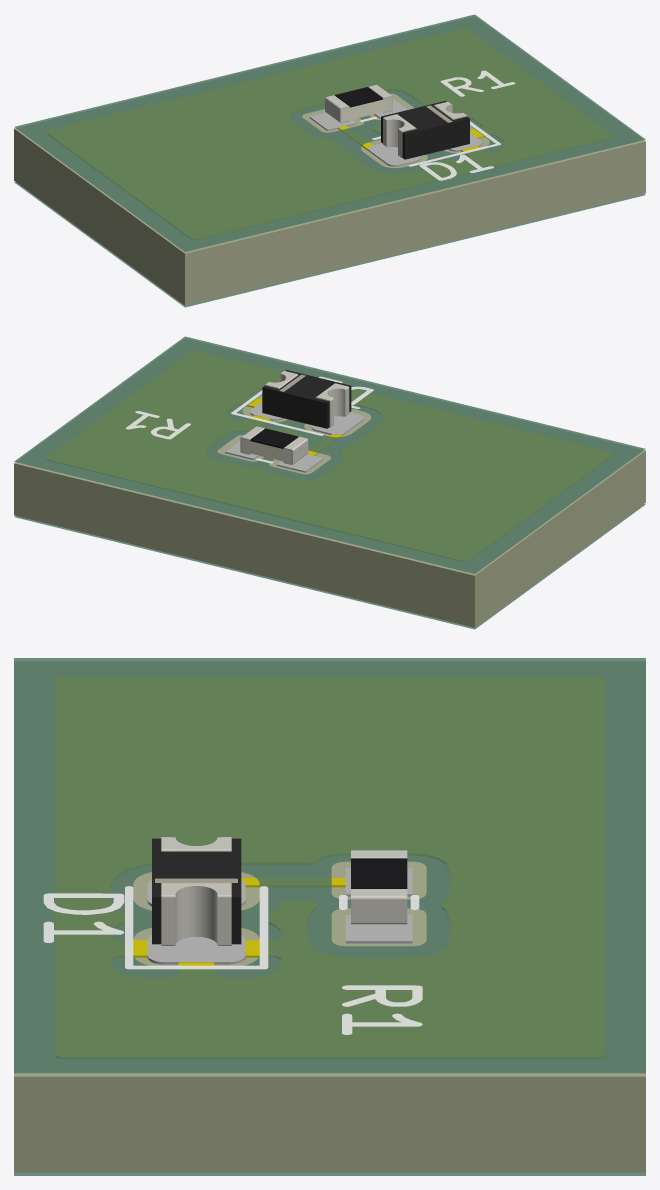
Rendered from board.glb.
The picture shows the model from 3 angles, top to bottom: view 1: azimuth 30°, elevation 25°; view 2: azimuth 150°, elevation 25°; view 3: azimuth 270°, elevation 25°; orthographic projection. The views are drawn at different scales.
Visible parts, largest first — view 1: board_soldermask (×2), board_PCB, board_copper, D_0805, R_0603_1608Metric, board_silkscreen, board_pad; view 2: board_soldermask (×2), board_PCB, board_copper, D_0805, R_0603_1608Metric, board_pad, board_silkscreen; view 3: board_soldermask (×2), board_copper, board_PCB, D_0805, board_silkscreen, R_0603_1608Metric, board_pad.
Boxes of the visible parts, x1,y1,x2,y2 form: board_soldermask (×2): (14,14,645,307); board_PCB: (14,17,645,305); board_copper: (46,29,613,239); D_0805: (381,100,469,159); R_0603_1608Metric: (325,84,392,123); board_silkscreen: (360,70,515,180); board_pad: (309,99,482,166); board_soldermask (×2): (14,336,645,629); board_PCB: (14,339,645,627); board_copper: (46,351,613,561); D_0805: (262,370,351,428); R_0603_1608Metric: (240,426,308,464); board_pad: (225,402,363,472); board_silkscreen: (125,376,373,463); board_soldermask (×2): (14,658,645,1175); board_copper: (55,677,604,1058); board_PCB: (14,662,645,1172); D_0805: (152,837,241,945); board_silkscreen: (43,886,422,1034); R_0603_1608Metric: (351,850,407,924); board_pad: (147,868,412,964).
Size of the model in its own units: 0.014 by 0.00244 by 0.009.
